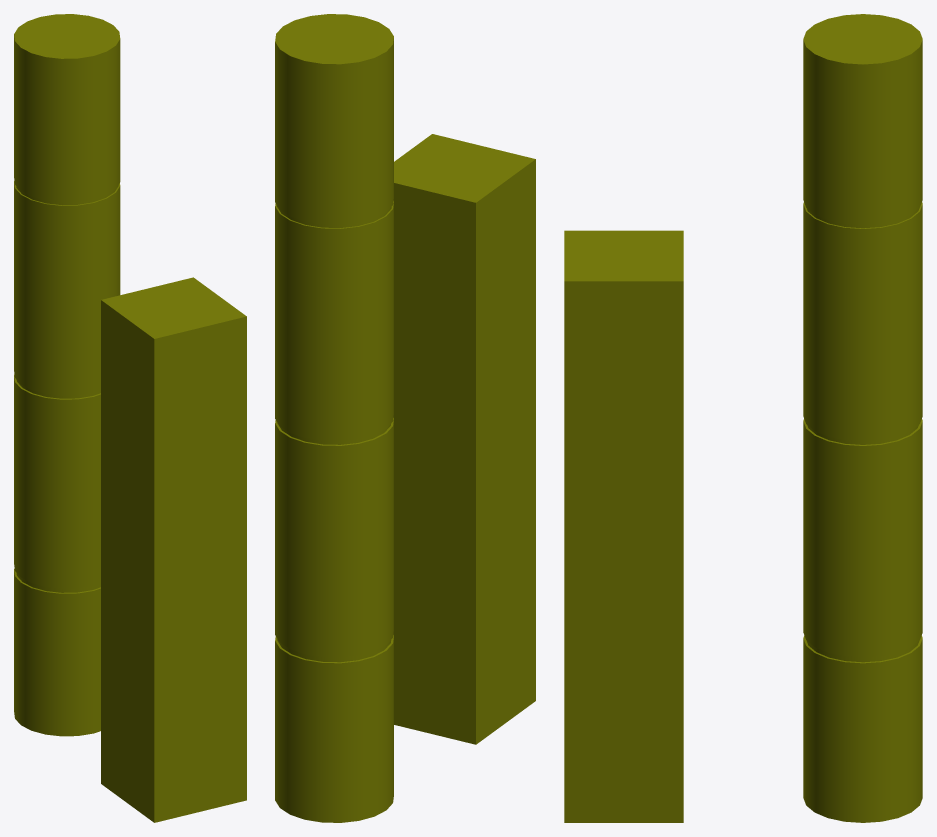
Rendered from TempA_Pillars_Low.fbx.
3 views of the same model, side by side, from view 1: azimuth 30°, elevation 25°; view 2: azimuth 150°, elevation 25°; view 3: azimuth 270°, elevation 25° (orthographic). The views are drawn at different scales.
Visible parts, largest first — view 1: TempA_Pillar_02, TempA_Pillar_01; view 2: TempA_Pillar_01, TempA_Pillar_02; view 3: TempA_Pillar_01, TempA_Pillar_02.
Part boxes in pixels (x1,y1,x2,y2): TempA_Pillar_02: (101, 277, 246, 822); TempA_Pillar_01: (14, 14, 120, 736); TempA_Pillar_01: (275, 14, 393, 822); TempA_Pillar_02: (393, 134, 535, 744); TempA_Pillar_01: (803, 14, 922, 822); TempA_Pillar_02: (564, 230, 683, 822).
Size of the model in its own units: 1 by 7 by 3.
